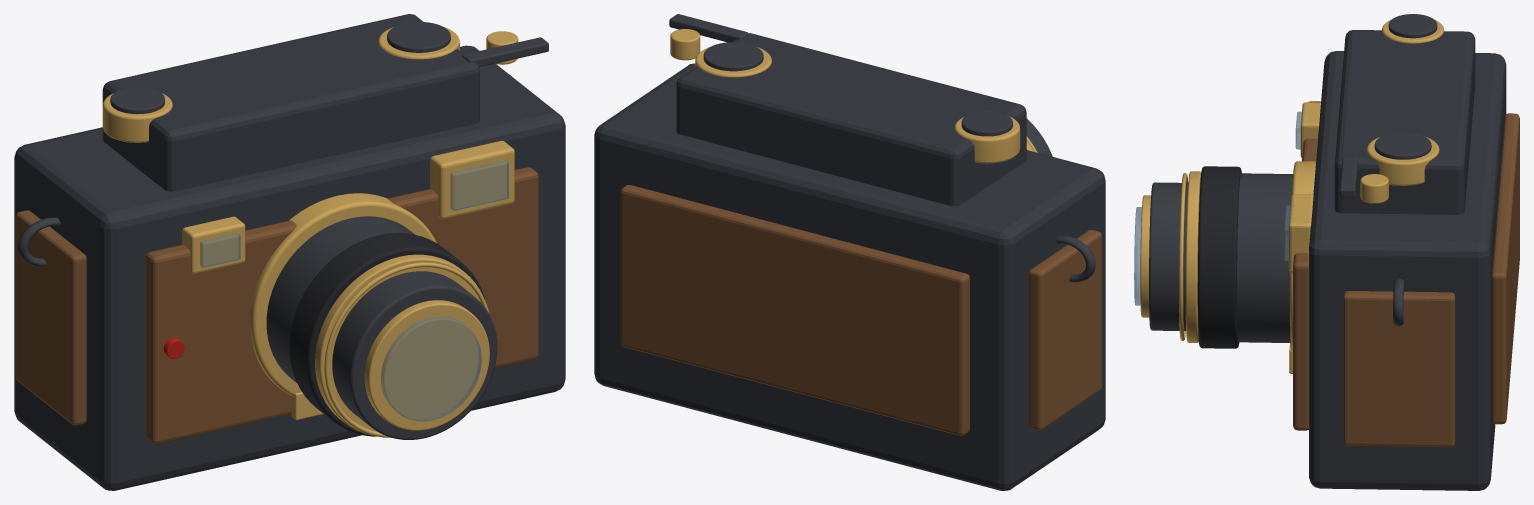
The model's file is native_vintage_camera_cloud_proof.glb.
3 renders of one model, left to right at view 1: azimuth 30°, elevation 25°; view 2: azimuth 150°, elevation 25°; view 3: azimuth 270°, elevation 25°, orthographic. The views are drawn at different scales.
Visible parts, largest first — view 1: CameraBody, TopHousing, FrontLeatherPanel, FrontGlassHousing, SideLeather_L, FrontLensBarrel, FrontGlass, FocusRing, LensMount, LensBarrelOuter, ViewfinderFrame, LensBrassRing (+10 smaller); view 2: CameraBody, BackLeatherPanel, TopHousing, SideLeather_L, RewindKnob, ShutterDial_Inset, RewindKnob_Inset, AdvanceLever, ShutterButton, ShutterDial, StrapLug_L; view 3: CameraBody, TopHousing, SideLeather_R, LensBarrelOuter, FocusRing, BackLeatherPanel, FrontLensBarrel, FrontLeatherPanel, LensBrassRing, ShutterDial, ViewfinderFrame, ShutterDial_Inset (+10 smaller).
Boxes of the visible parts, x1,y1,x2,y2 form: CameraBody: (14,45,565,490); TopHousing: (102,14,479,191); FrontLeatherPanel: (145,167,538,444); FrontGlassHousing: (364,300,489,430); SideLeather_L: (15,210,86,425); FrontLensBarrel: (332,271,497,439); FrontGlass: (381,316,481,421); FocusRing: (289,233,485,436); LensMount: (250,193,436,396); LensBarrelOuter: (266,216,414,382); ViewfinderFrame: (430,140,514,218); LensBrassRing: (315,254,483,435); CameraBody: (594,63,1105,490); BackLeatherPanel: (620,185,969,435); TopHousing: (676,33,1026,206); SideLeather_L: (1029,230,1101,430); RewindKnob: (954,116,1020,163); ShutterDial_Inset: (703,42,763,71); RewindKnob_Inset: (961,111,1012,136); AdvanceLever: (669,14,748,42); ShutterButton: (670,29,700,60); ShutterDial: (695,47,771,77); StrapLug_L: (1056,235,1095,282); CameraBody: (1309,51,1506,490); TopHousing: (1334,30,1475,214); SideLeather_R: (1343,291,1455,447); LensBarrelOuter: (1237,173,1292,342); FocusRing: (1197,166,1241,348); BackLeatherPanel: (1492,113,1519,424); FrontLensBarrel: (1149,182,1188,330); FrontLeatherPanel: (1293,101,1320,430); LensBrassRing: (1185,171,1201,342); ShutterDial: (1366,136,1439,185); ViewfinderFrame: (1288,194,1313,272); ShutterDial_Inset: (1374,132,1431,159).
Size of the model in its own units: 0.2103 by 0.1297 by 0.1482.
